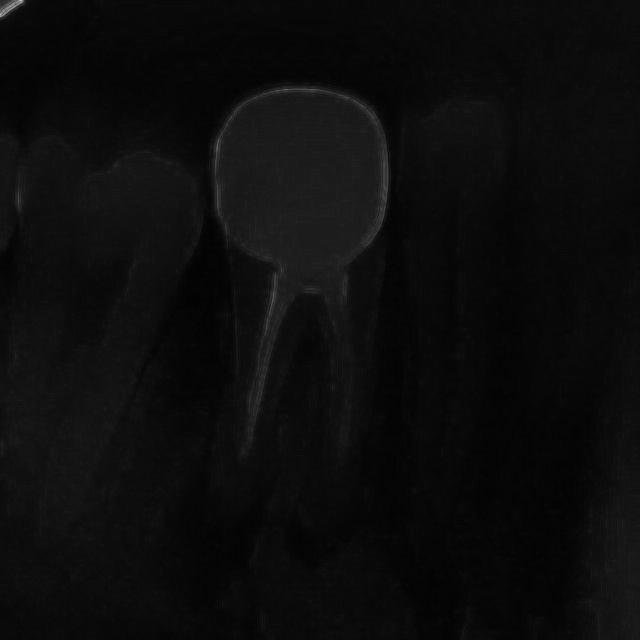Class 1- complete endodontic treatment: (165, 48, 418, 612)
cavity: (386, 84, 626, 584)
